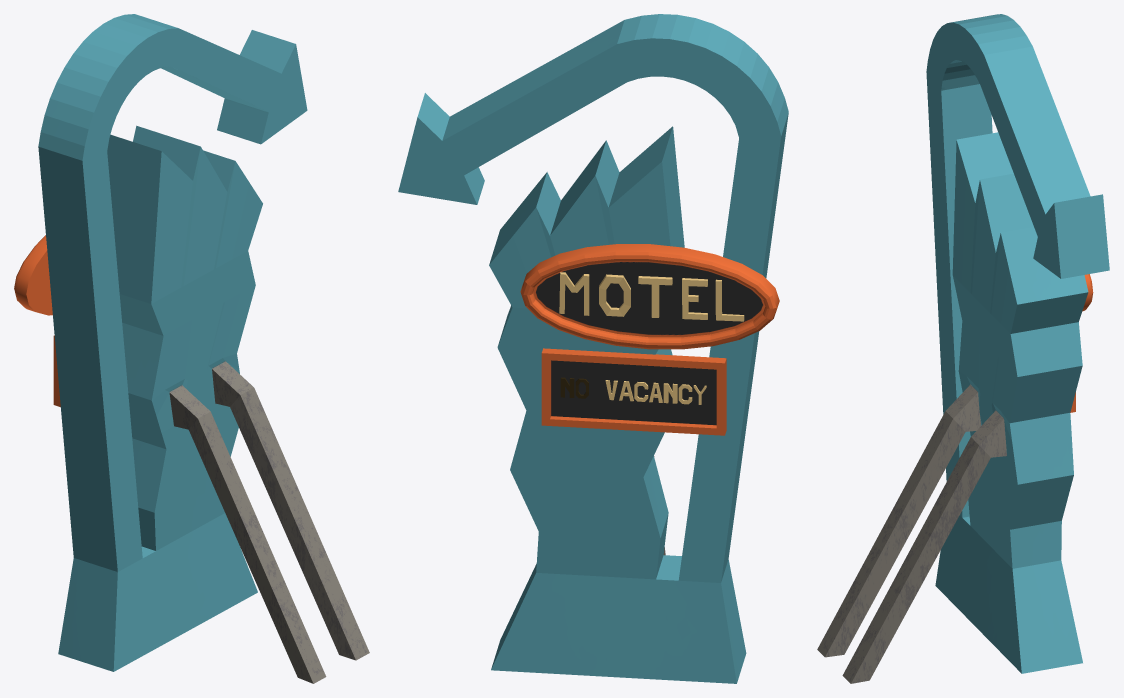
File: Motel_Sign.glb
3 views of the same model, side by side, from view 1: azimuth 30°, elevation 25°; view 2: azimuth 150°, elevation 25°; view 3: azimuth 270°, elevation 25° (orthographic). The views are drawn at different scales.
Visible parts, largest first — view 1: Circle.002; view 2: Circle.002; view 3: Circle.002.
Boxes of the visible parts, box(x1,y1,x2,y2) form: Circle.002: box(14, 14, 369, 683); Circle.002: box(398, 14, 788, 683); Circle.002: box(817, 14, 1109, 683).
Size of the model in its own units: 4.82 by 8.68 by 3.97.
Materials: 4 (4 with a texture image).
